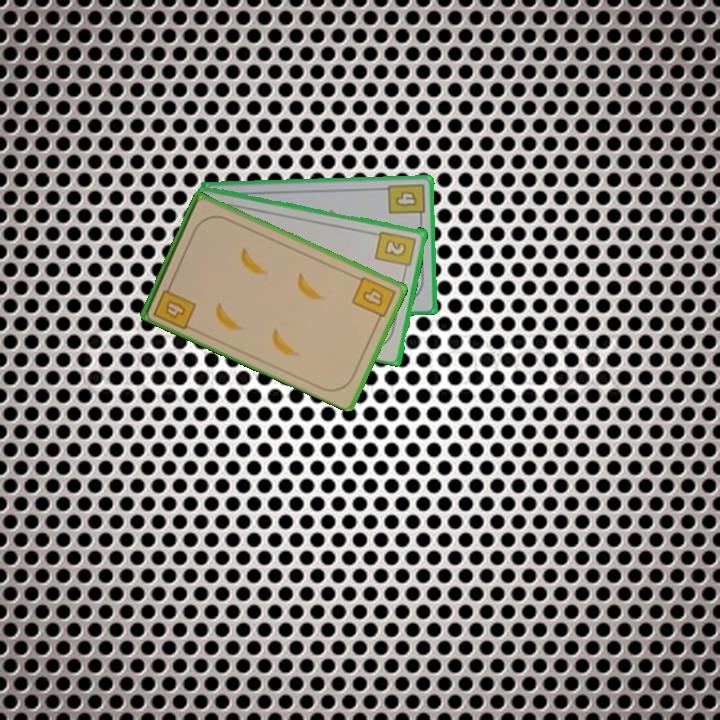2b: (372, 227, 419, 275)
4b: (348, 273, 399, 326), (149, 278, 199, 332), (385, 180, 427, 223)
